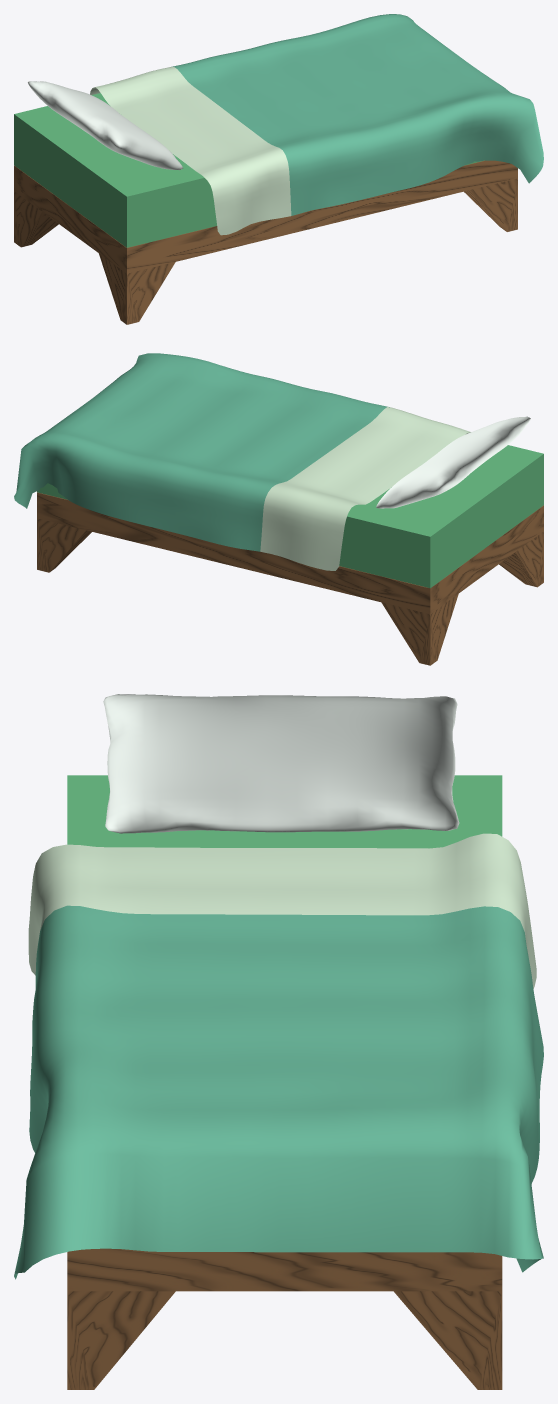
The model's file is cama.obj.
The picture shows the model from 3 angles, top to bottom: view 1: azimuth 30°, elevation 25°; view 2: azimuth 150°, elevation 25°; view 3: azimuth 270°, elevation 25°; orthographic projection. The views are drawn at different scales.
Parts seen in each view (by area): view 1: polySurface2 Mesh, pCube11, pCube2, polySurface1Mesh, pCube3, pCube8, pCube7; view 2: polySurface2 Mesh, pCube11, pCube2, polySurface1Mesh, pCube7, pCube9, pCube3; view 3: polySurface2 Mesh, polySurface1Mesh, pCube2, pCube11, pCube8, pCube9.
Boxes of the visible parts, x1,y1,x2,y2 form: polySurface2 Mesh: (90,14,543,235); pCube11: (14,93,483,247); pCube2: (14,160,517,273); polySurface1Mesh: (28,81,183,170); pCube3: (99,253,175,324); pCube8: (464,178,517,231); pCube7: (14,191,58,247); polySurface2 Mesh: (14,353,470,570); pCube11: (37,445,543,588); pCube2: (37,492,543,614); polySurface1Mesh: (376,416,530,508); pCube7: (381,594,458,665); pCube9: (37,518,91,572); pCube3: (499,531,543,587); polySurface2 Mesh: (14,833,543,1279); polySurface1Mesh: (103,694,459,833); pCube2: (67,1248,502,1291); pCube11: (67,775,502,848); pCube8: (67,1291,175,1389); pCube9: (394,1291,502,1389).
Size of the model in its own units: 4.2 by 1.71 by 2.44.
4 materials, 4 textured.
